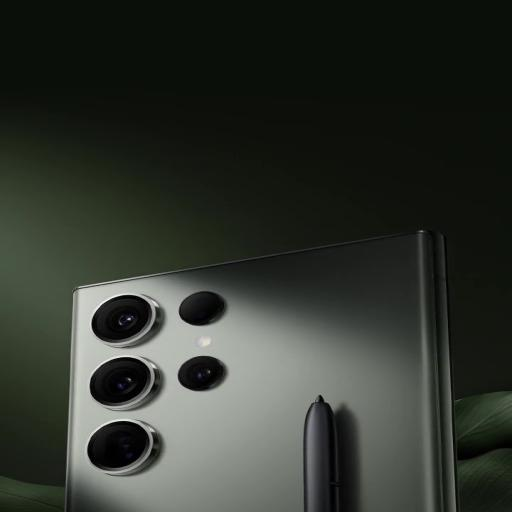phone: (60, 230, 450, 510)
